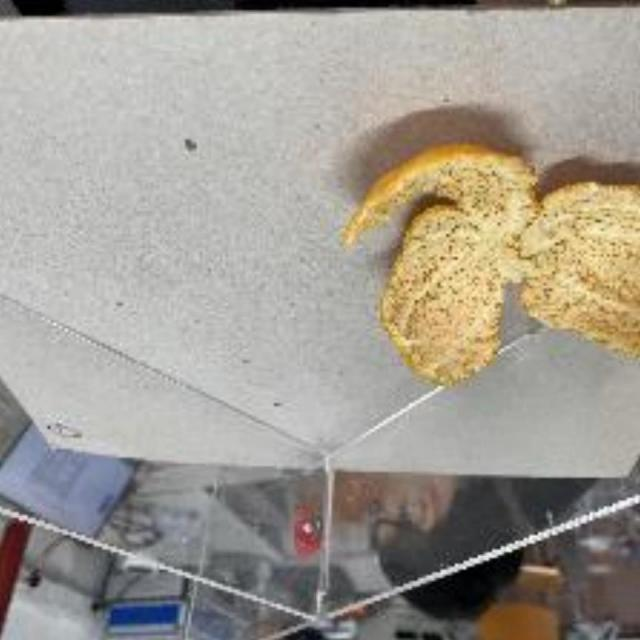orange peel: (348, 143, 640, 389)
